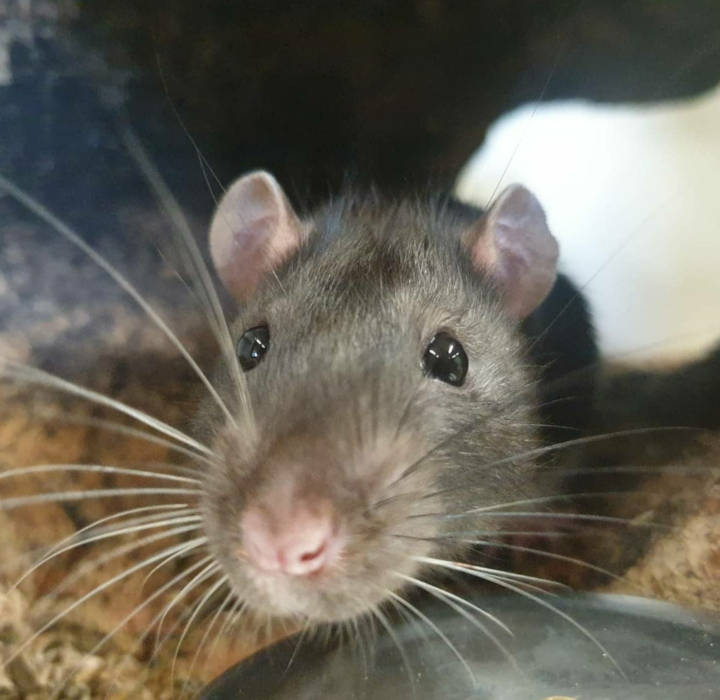rat: (164, 156, 595, 637)
